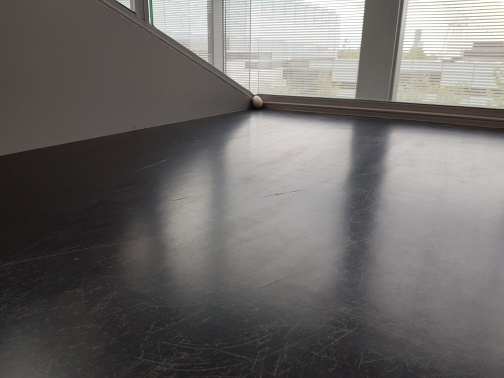egg: (249, 94, 265, 109)
